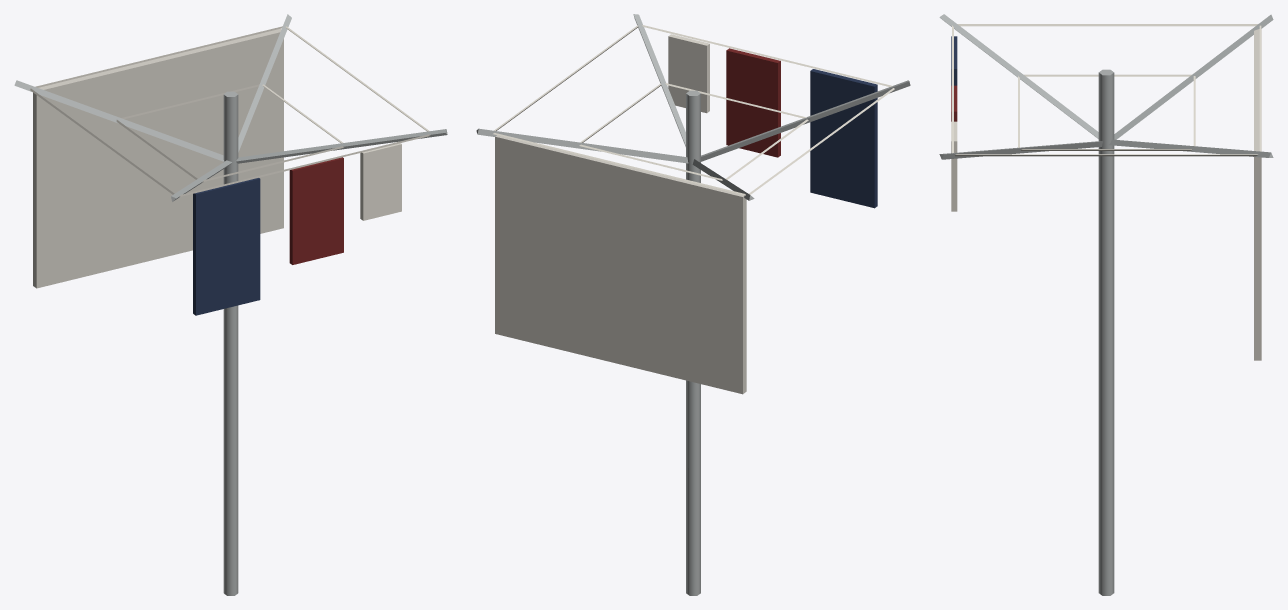
The model's file is rotary_clothesline.glb.
3 renders of one model, left to right at view 1: azimuth 30°, elevation 25°; view 2: azimuth 150°, elevation 25°; view 3: azimuth 270°, elevation 25°, orthographic. The views are drawn at different scales.
Parts seen in each view (by area): view 1: rotary_clothesline; view 2: rotary_clothesline; view 3: rotary_clothesline.
Boxes of the visible parts, bbox=[...] form: rotary_clothesline: bbox=[14, 14, 447, 595]; rotary_clothesline: bbox=[476, 14, 910, 595]; rotary_clothesline: bbox=[939, 14, 1273, 595].
Bounding box in the file's own units: 1.08 × 1.85 × 1.08.
Materials: 1 (1 with a texture image).
